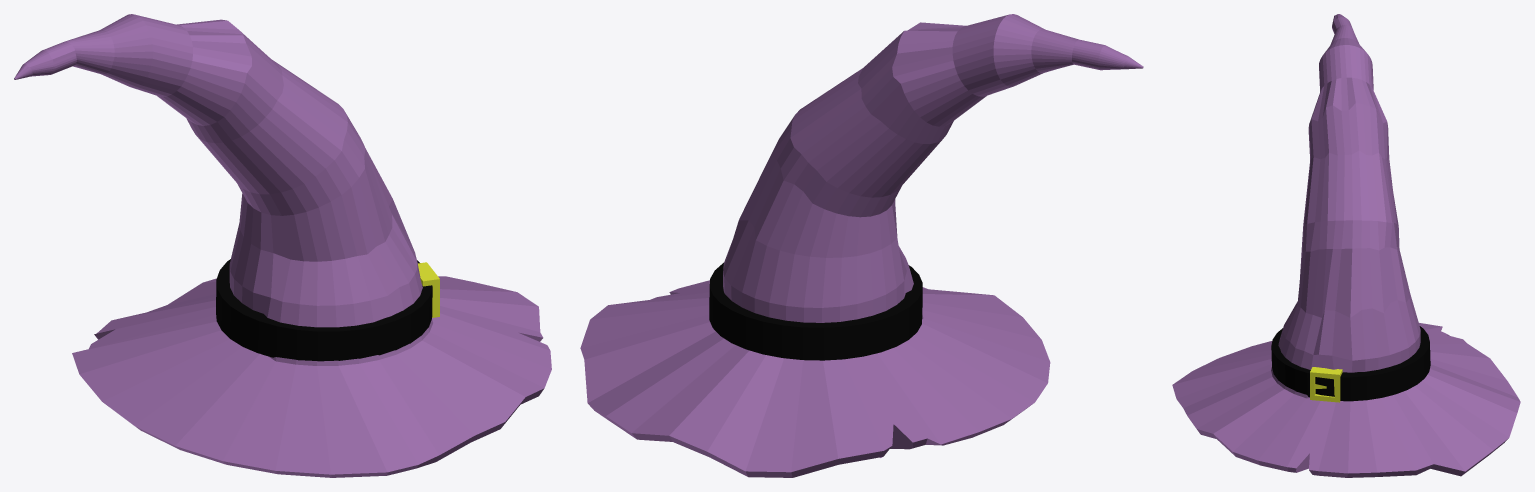
Rendered from asset.glb.
3 renders of one model, left to right at view 1: azimuth 30°, elevation 25°; view 2: azimuth 150°, elevation 25°; view 3: azimuth 270°, elevation 25°, orthographic. The views are drawn at different scales.
Parts seen in each view (by area): view 1: Cylinder_2, Cylinder.001_3, Cube_4; view 2: Cylinder_2, Cylinder.001_3; view 3: Cylinder_2, Cylinder.001_3, Cube_4.
Part boxes in pixels (<box>): Cylinder_2: <box>14,14,551,477</box>; Cylinder.001_3: <box>216,259,432,361</box>; Cube_4: <box>418,262,439,317</box>; Cylinder_2: <box>580,14,1143,477</box>; Cylinder.001_3: <box>709,262,922,360</box>; Cylinder_2: <box>1172,14,1520,477</box>; Cylinder.001_3: <box>1271,326,1430,401</box>; Cube_4: <box>1310,367,1342,402</box>.
Bounding box in the file's own units: 2.7 × 2.05 × 2.09.
